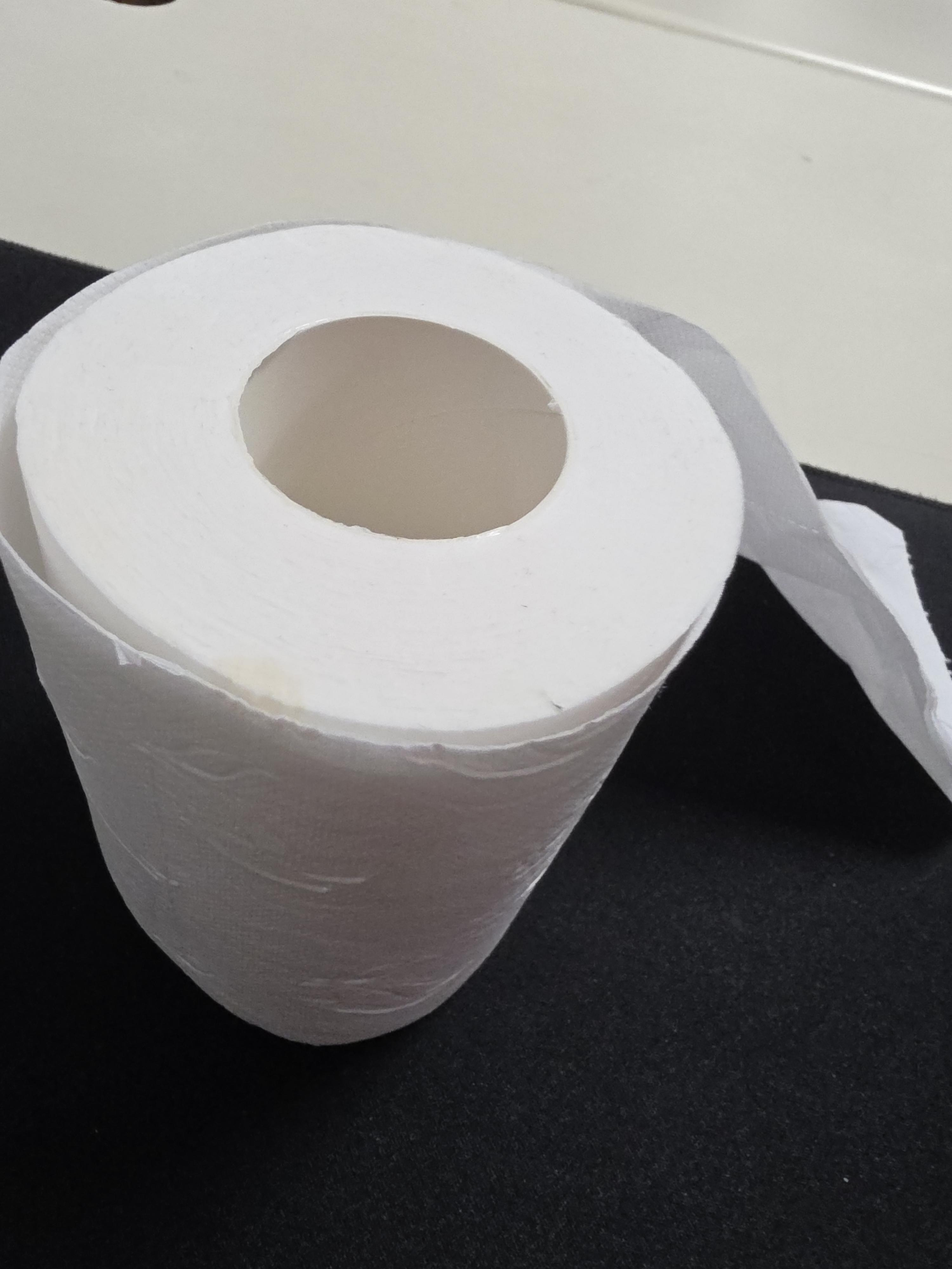tissue: (0, 219, 951, 1048)
